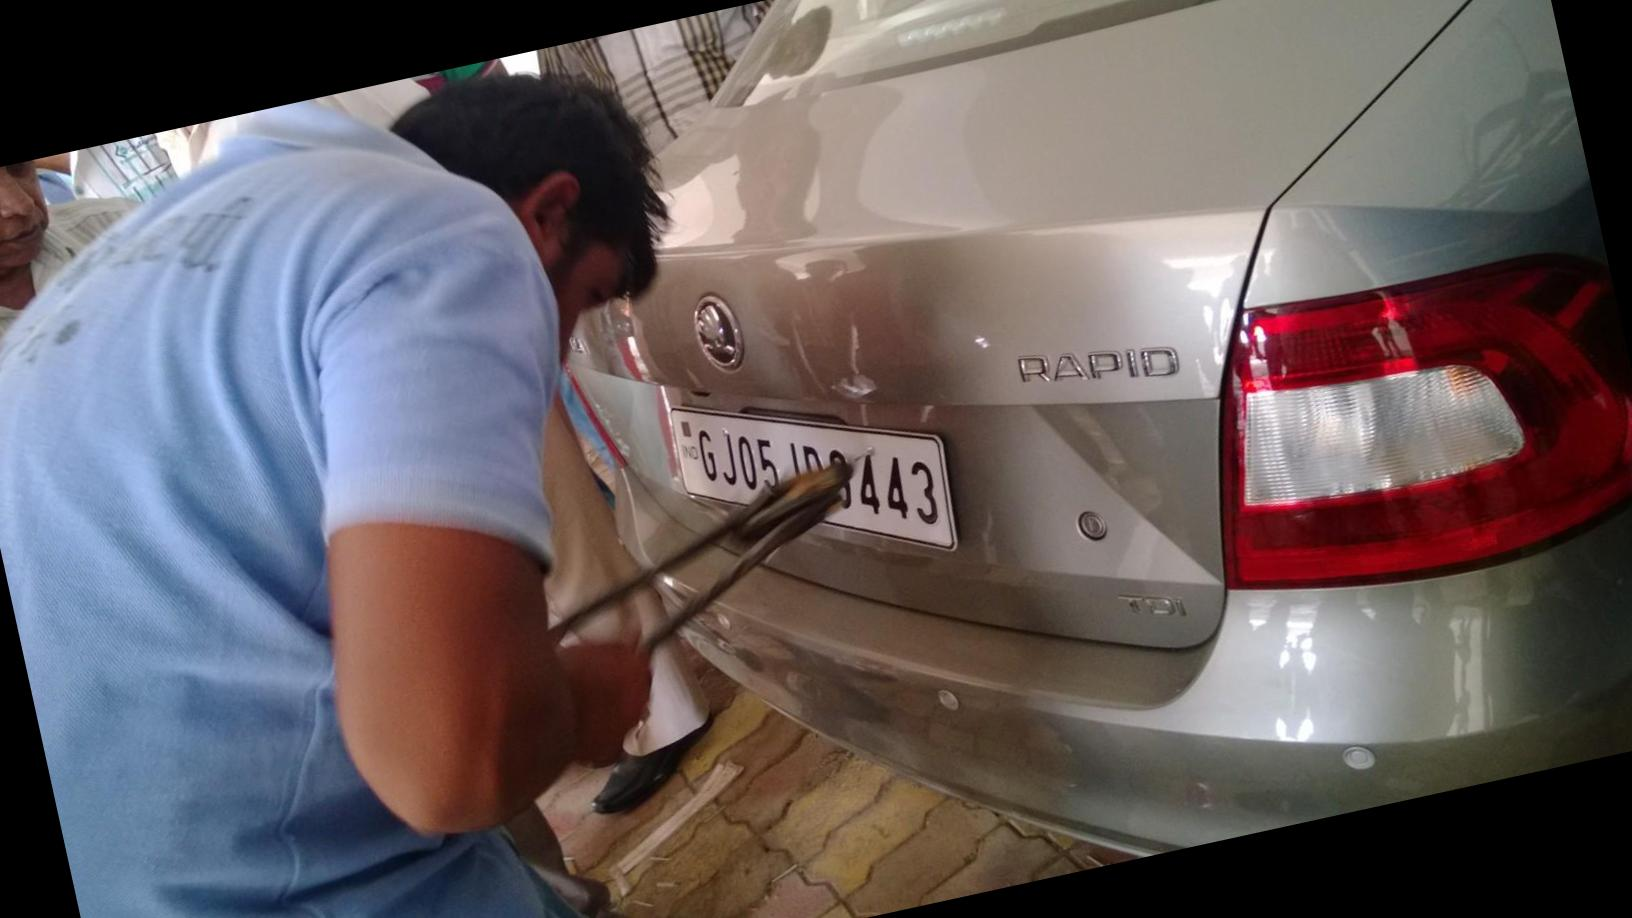plate: (657, 336, 977, 599)
